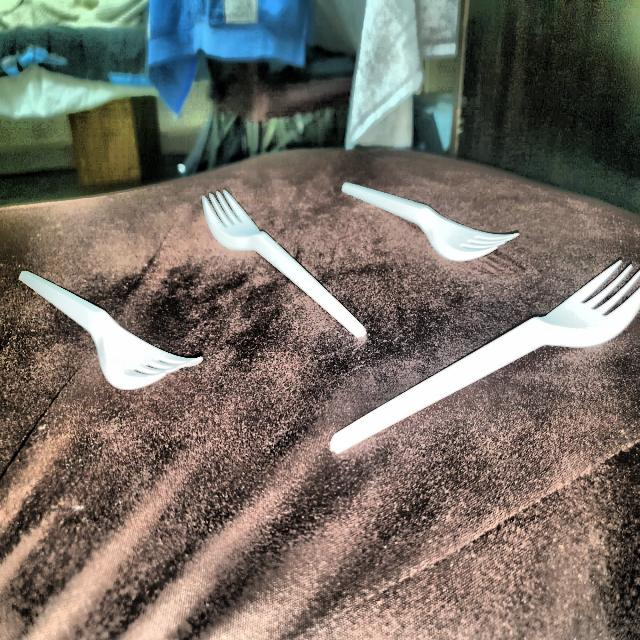plastic utensil: (338, 264, 640, 462), (198, 187, 372, 343)
